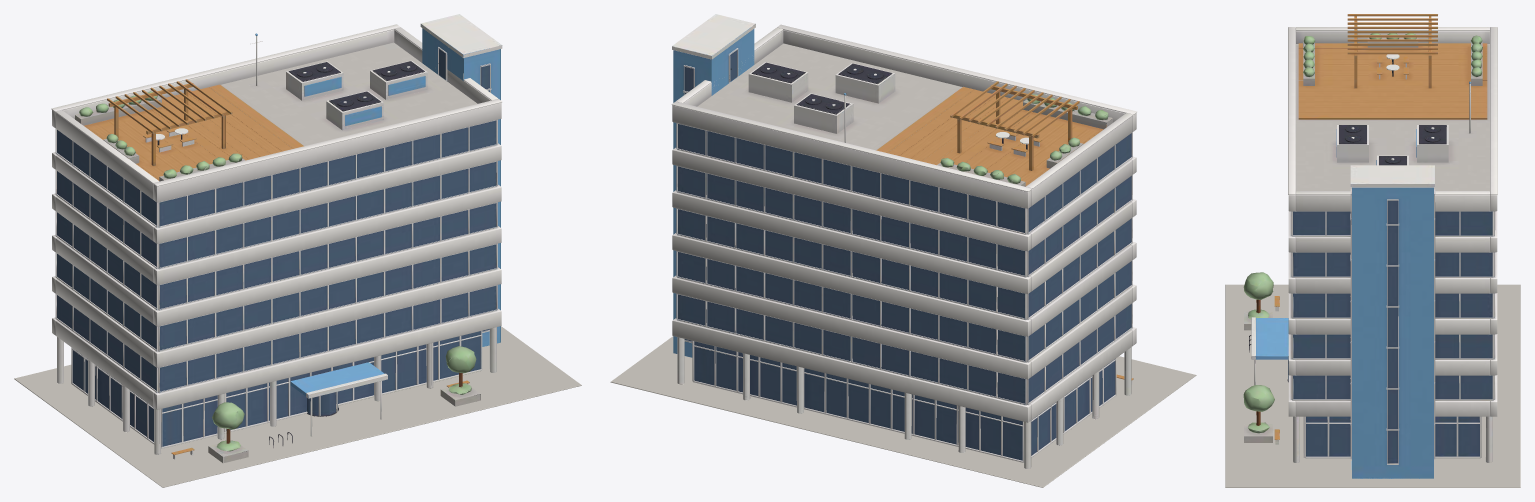
File: office-building.glb
3 views of the same model, side by side, from view 1: azimuth 30°, elevation 25°; view 2: azimuth 150°, elevation 25°; view 3: azimuth 270°, elevation 25° (orthographic). The views are drawn at different scales.
Visible parts, largest first — view 1: office-building_facade, office-building_shell, office-building_body, office-building_ground_slab; view 2: office-building_facade, office-building_shell, office-building_body, office-building_ground_slab; view 3: office-building_facade, office-building_body, office-building_ground_slab, office-building_shell.
Part boxes in pixels (x1,y1,x2,y2): office-building_facade: (55,14,502,393); office-building_shell: (51,24,502,409); office-building_body: (57,33,496,463); office-building_ground_slab: (14,326,581,487); office-building_facade: (672,14,1132,405); office-building_shell: (671,24,1136,422); office-building_body: (677,43,1133,468); office-building_ground_slab: (610,336,1196,487); office-building_facade: (1290,165,1495,478); office-building_body: (1243,14,1492,462); office-building_ground_slab: (1225,284,1520,487); office-building_shell: (1288,27,1497,416).
Size of the model in its own units: 36.1 by 25.61 by 22.2.
Materials: 4 (3 with a texture image).
